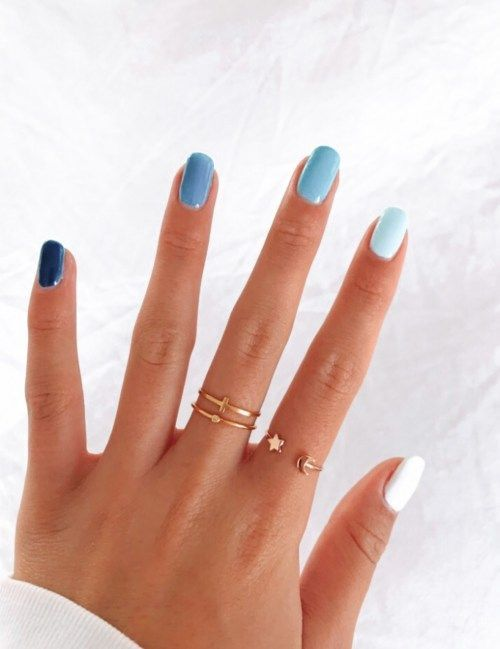nails: (294, 142, 345, 210), (174, 146, 219, 215), (380, 451, 426, 516), (367, 202, 410, 261), (33, 233, 71, 294)
